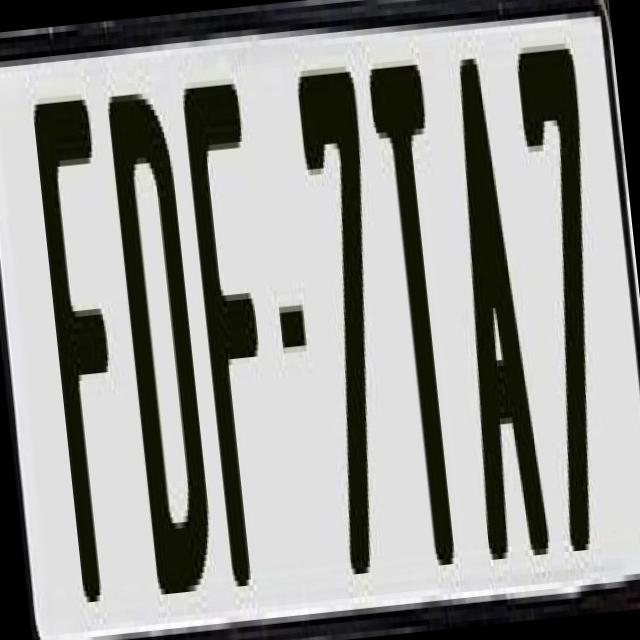7: (510, 36, 622, 558), (292, 59, 402, 574)
A: (432, 50, 545, 555)
D: (104, 91, 220, 630)
F: (31, 98, 148, 614), (180, 71, 293, 604)
T: (361, 47, 466, 550)
